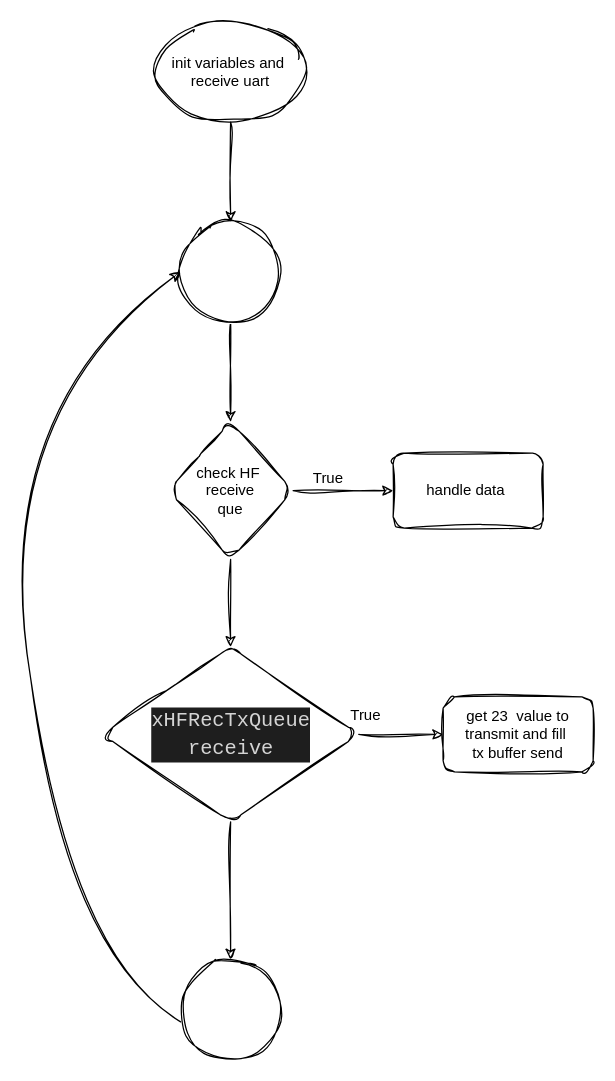
Image size: 615x1081. Some labels were removed from this diagram. Each missing label, with the centre of its shape:
delay 50ms: point 230,1008
while loop: point 230,271
